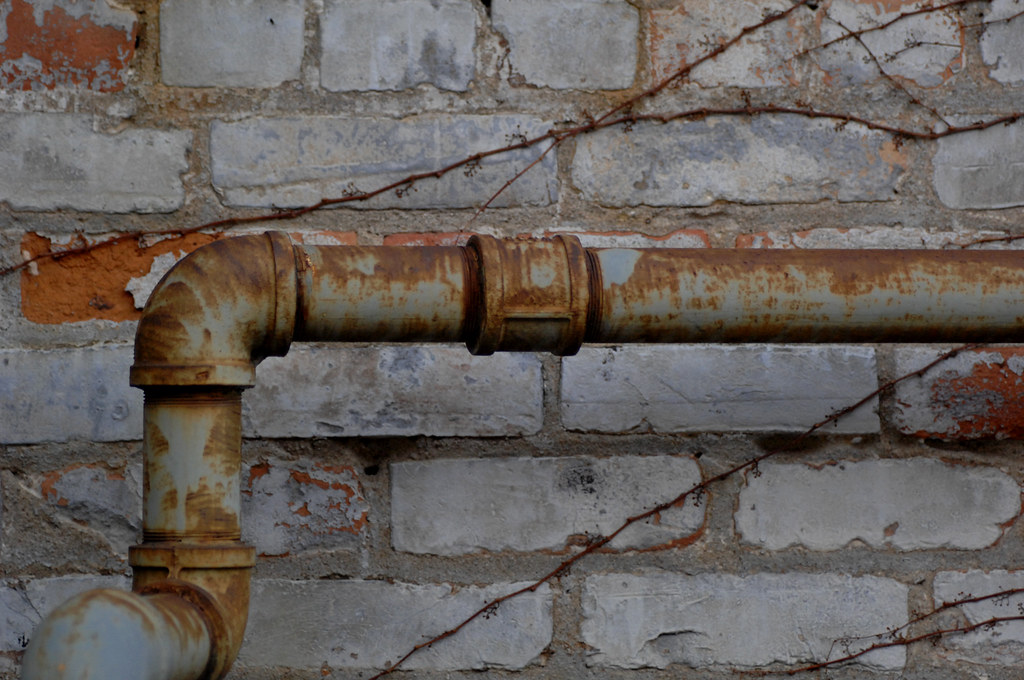Moderate: (266, 235, 1019, 359), (117, 217, 304, 631)
